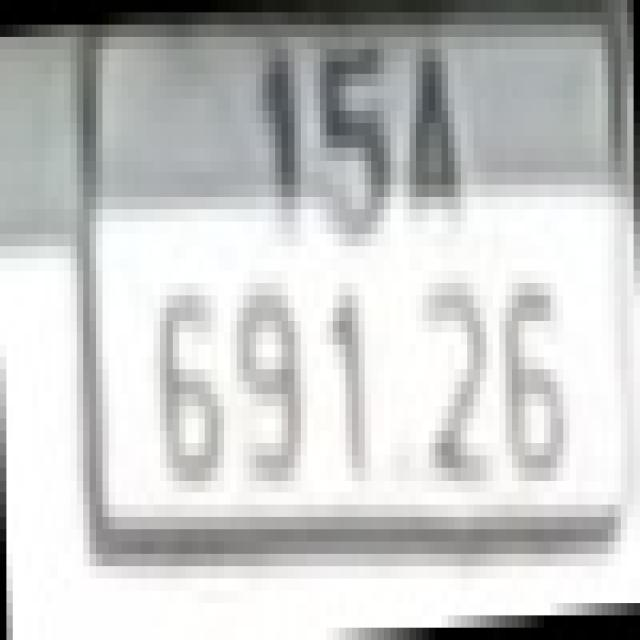1: (250, 37, 307, 246), (320, 283, 378, 480)
2: (416, 271, 493, 480)
5: (320, 37, 397, 246)
6: (154, 283, 224, 480), (506, 271, 563, 480)
9: (237, 283, 301, 480)
A: (403, 37, 467, 246)
